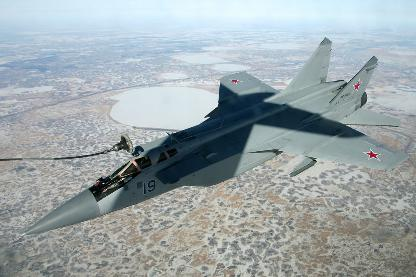Mig31: (4, 35, 408, 242)
